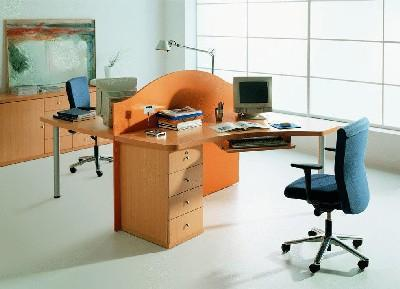Ventana: (191, 6, 397, 129)
